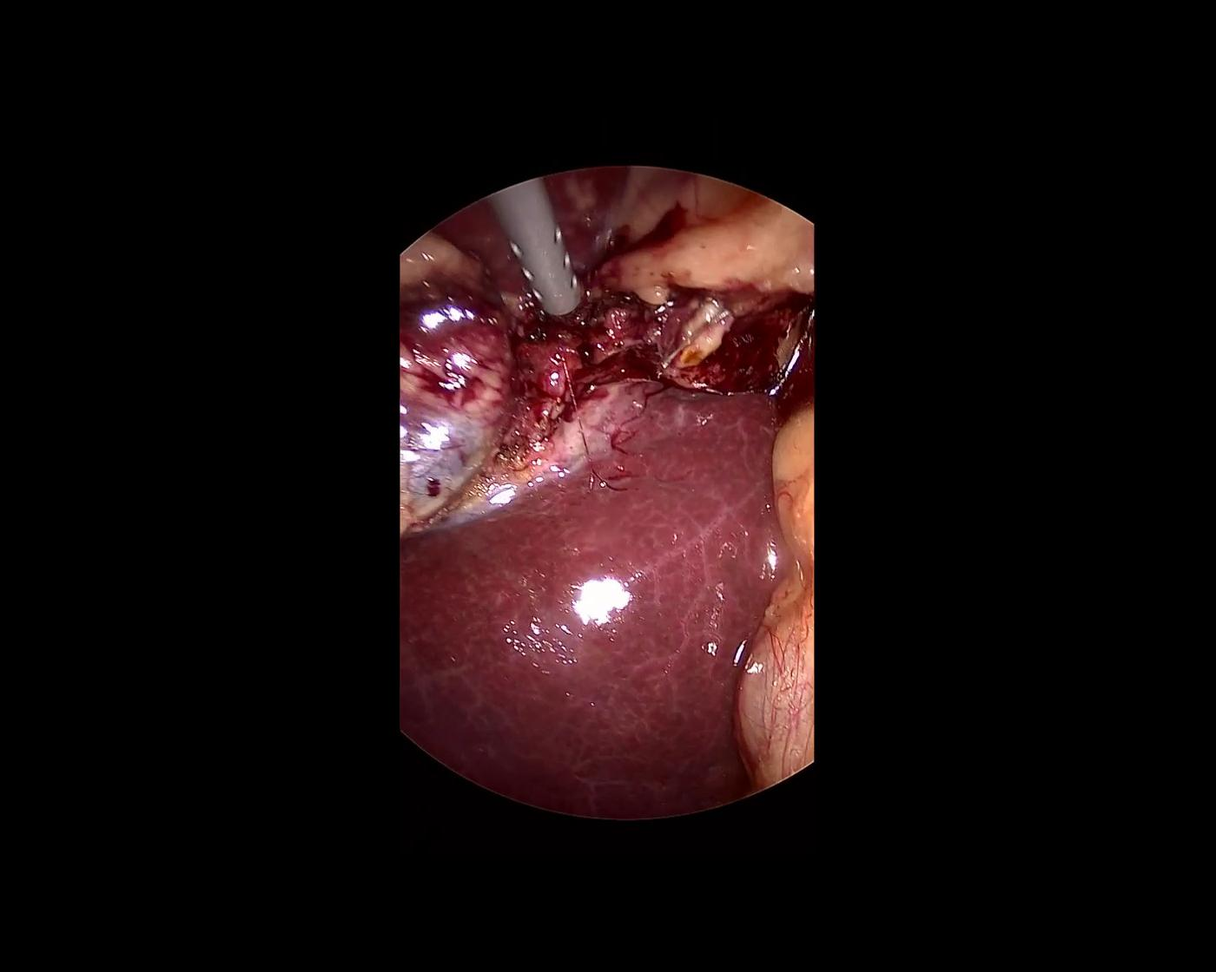Gallbladder: (399, 229, 513, 537)
Liver: (400, 380, 775, 817), (428, 146, 660, 318)
Suction: (490, 174, 584, 322)
